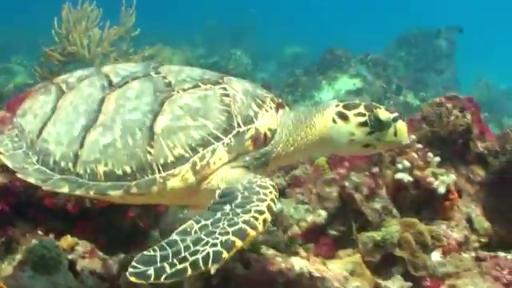Fish: (0, 64, 408, 282)
